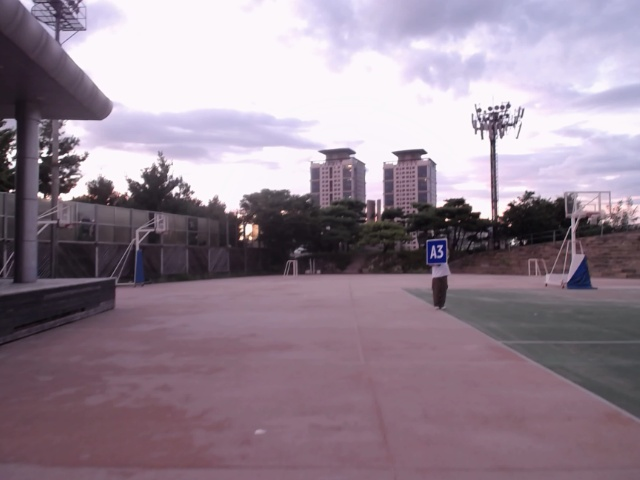delivery_a3: (426, 241, 448, 263)
